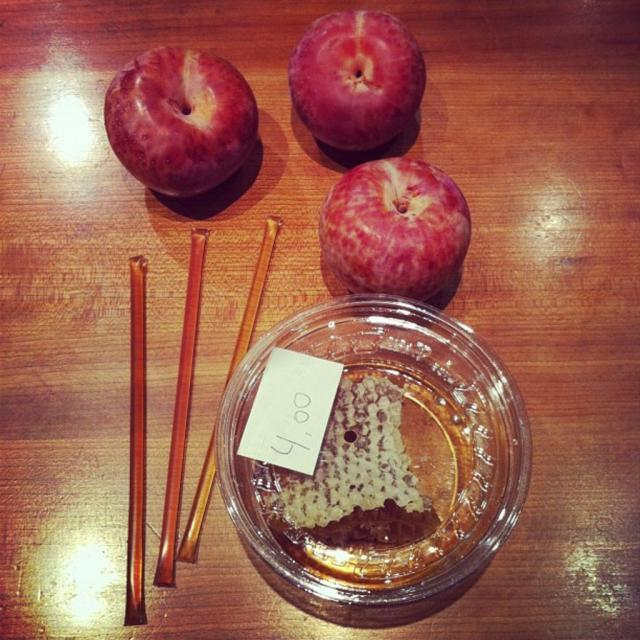Apple: (103, 44, 259, 198), (318, 156, 471, 310), (288, 8, 427, 152)
